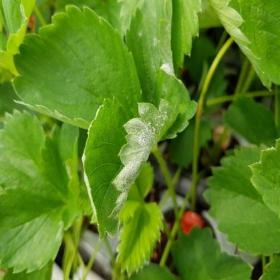Powdery Mildew Leaf: (82, 95, 181, 240), (124, 0, 199, 143)
